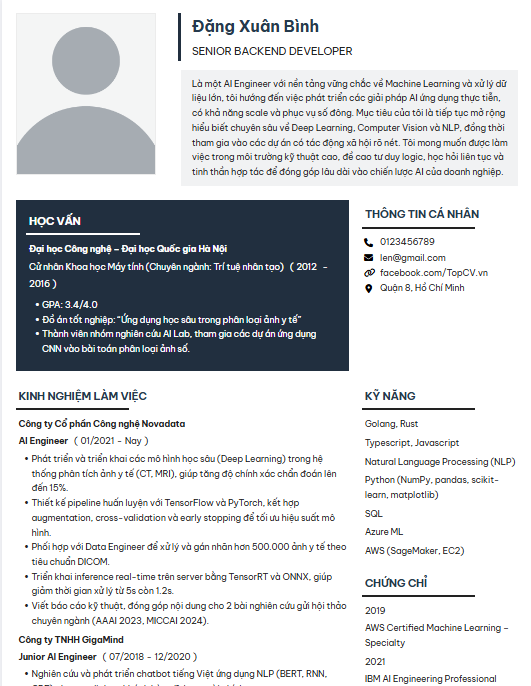address: (359, 280, 468, 298)
gpa: (33, 294, 106, 312)
level: (188, 43, 232, 59)
position: (233, 41, 356, 60)
skill: (359, 381, 530, 558)
